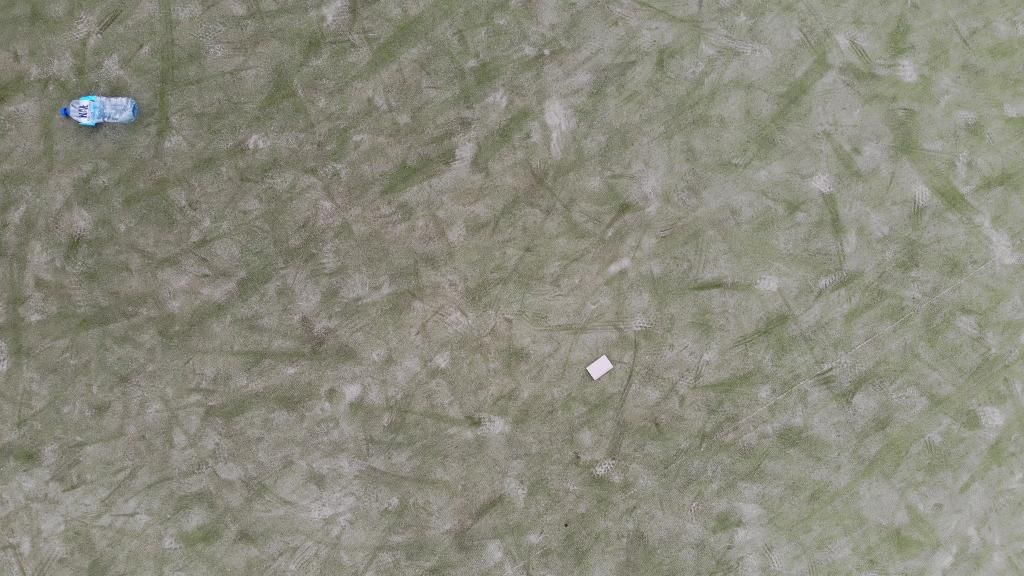garbage: (55, 95, 140, 127), (584, 351, 615, 385)
